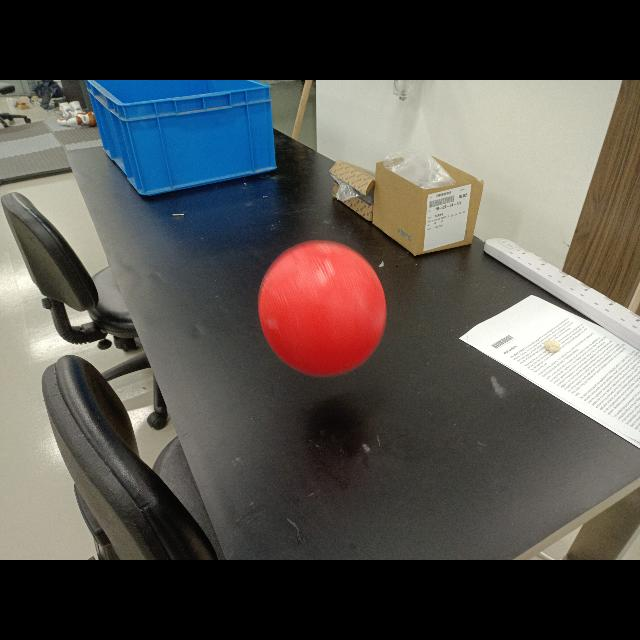R: (259, 239, 386, 377)
